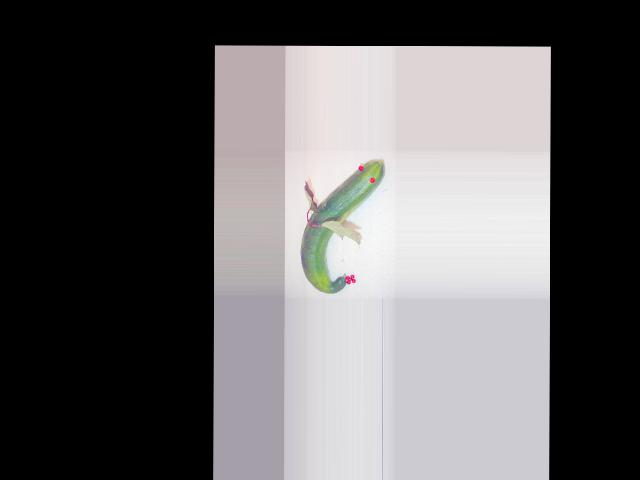cucumber: (300, 160, 385, 294)
